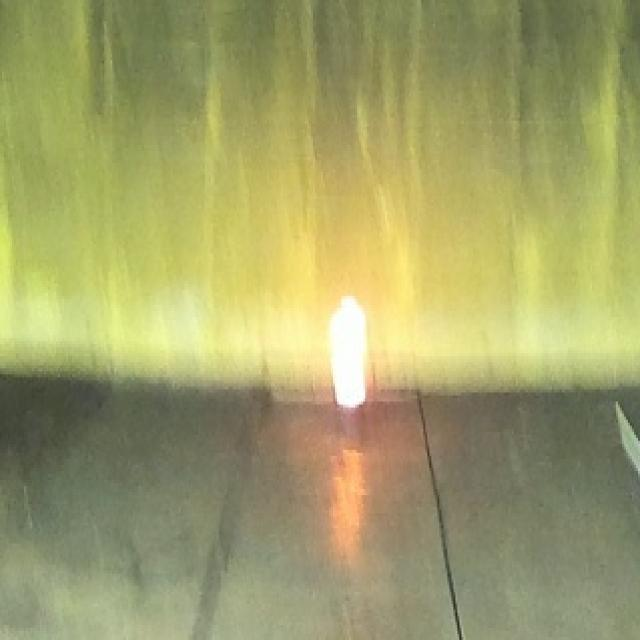Fire: (328, 292, 368, 408)
